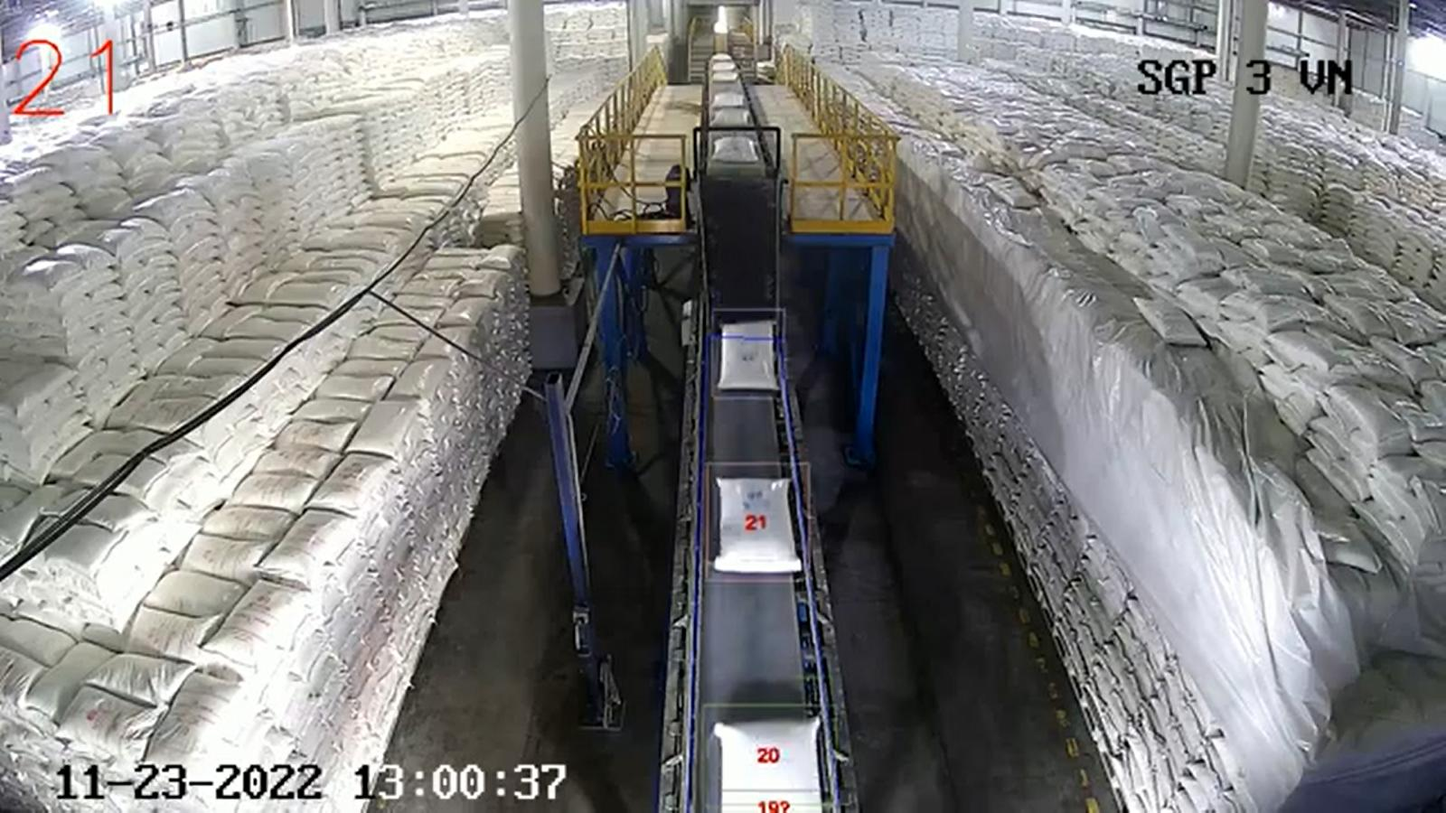rice-bag: (713, 717, 821, 812), (714, 468, 781, 565), (718, 321, 778, 390)
